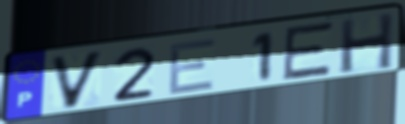1: (249, 30, 275, 82)
2: (111, 45, 157, 104)
E: (280, 20, 337, 83), (166, 35, 218, 97)
H: (338, 10, 396, 75)
V: (48, 48, 107, 112)
